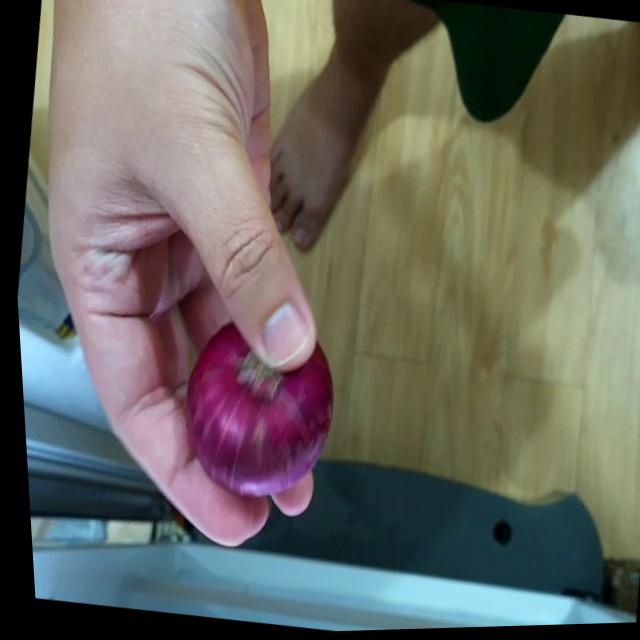onion: (170, 318, 347, 508)
